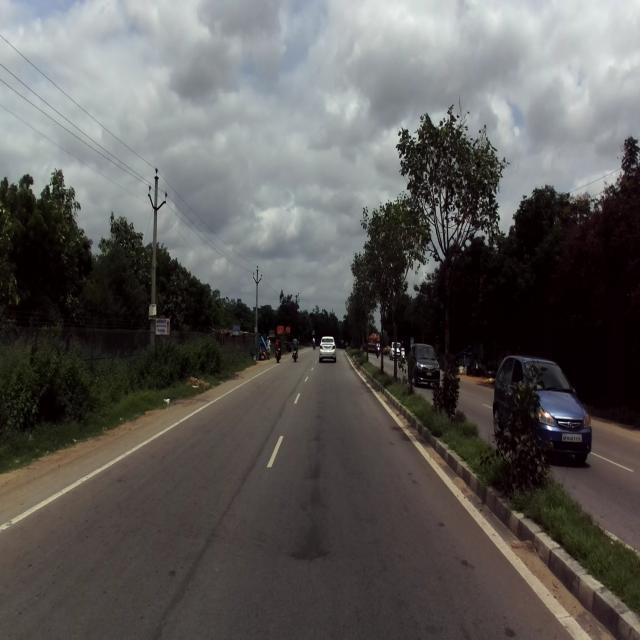Car_TATA: (492, 354, 592, 466)
